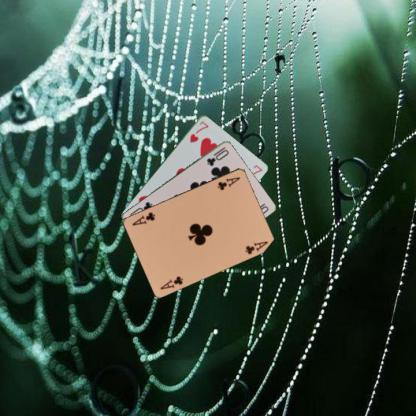10c: (204, 144, 230, 168)
7h: (187, 118, 210, 144)
Ac: (158, 273, 184, 291), (215, 174, 241, 191)
